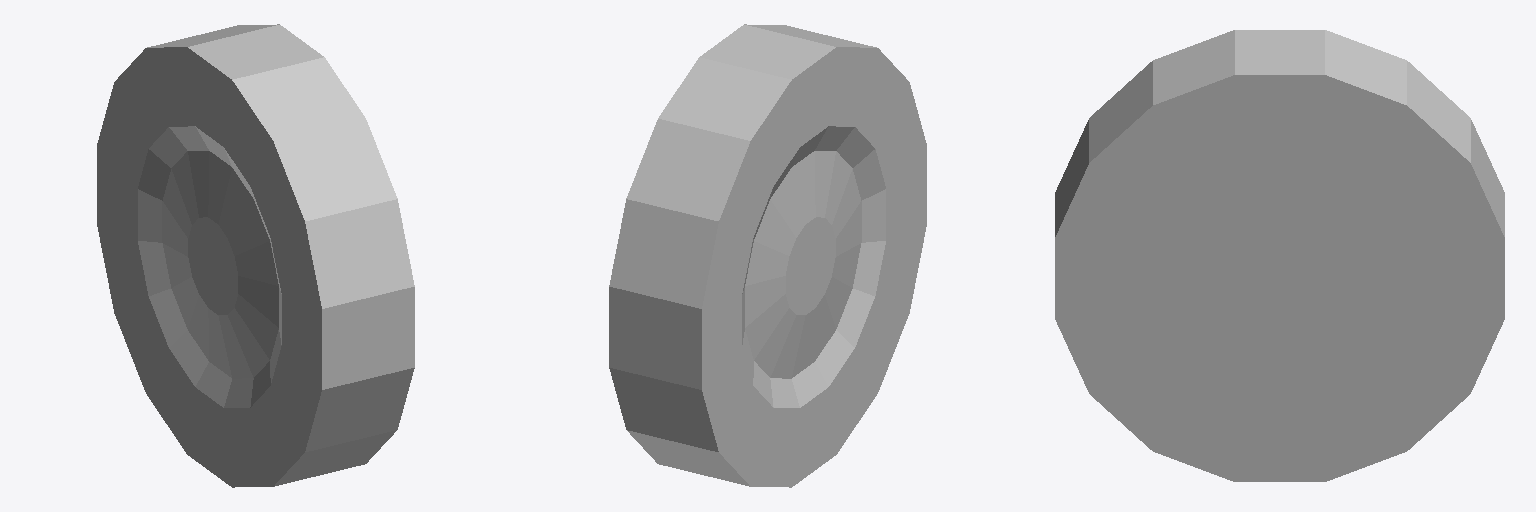
The model's file is wheel.obj.
3 views of the same model, side by side, from view 1: azimuth 30°, elevation 25°; view 2: azimuth 150°, elevation 25°; view 3: azimuth 270°, elevation 25° (orthographic).
Visible parts, largest first — view 1: Cube; view 2: Cube; view 3: Cube.
Part boxes in pixels (bbox=[...]): Cube: bbox=[97, 24, 414, 487]; Cube: bbox=[609, 24, 926, 487]; Cube: bbox=[1055, 30, 1504, 481].
Size of the model in its own units: 0.1401 by 0.5887 by 0.5887.